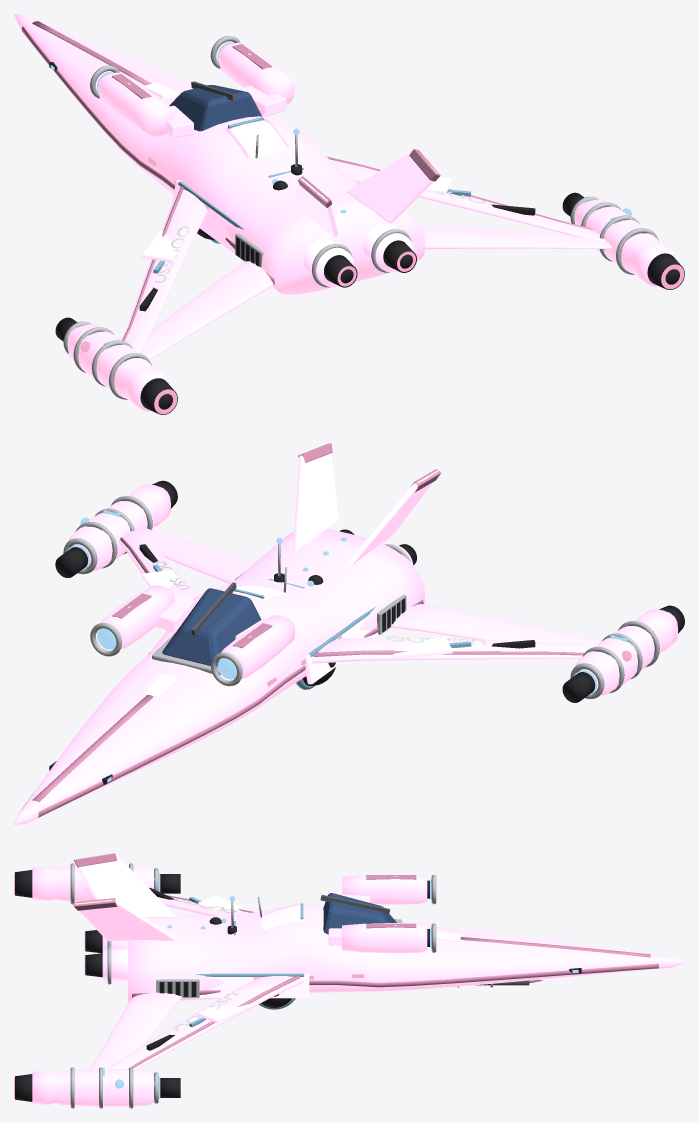
The model's file is uss-boo.glb.
The picture shows the model from 3 angles, top to bottom: view 1: azimuth 30°, elevation 25°; view 2: azimuth 150°, elevation 25°; view 3: azimuth 270°, elevation 25°; orthographic projection. The views are drawn at different scales.
Visible parts, largest first — view 1: Hull, WingRearL, WingFrontL, NacelleL, WingRearR, NacelleR, FinR, PodL, Canopy, WingFrontR, PodR, SpinePanel (+13 smaller); view 2: Hull, Canopy, WingRearL, WingFrontL, NacelleL, NacelleR, FinR, WingRearR, PodL, PodR, ChineL, FinL (+8 smaller); view 3: Hull, NacelleR, WingRearR, WingFrontR, FinL, PodR, FinR, PodL, NacelleL, ChineR, Canopy, FlankPanelR (+14 smaller).
Boxes of the visible parts, x1,y1,x2,y2 form: Hull: (14, 14, 425, 294); WingRearL: (138, 261, 274, 359); WingFrontL: (121, 188, 207, 352); NacelleL: (67, 324, 170, 411); WingRearR: (421, 226, 612, 249); NacelleR: (574, 199, 677, 286); FinR: (346, 151, 437, 223); PodL: (98, 72, 174, 136); Canopy: (169, 85, 261, 131); WingFrontR: (330, 159, 605, 240); PodR: (218, 42, 294, 104); SpinePanel: (224, 118, 288, 157); Hull: (14, 529, 425, 824); Canopy: (162, 588, 261, 666); WingRearL: (390, 604, 601, 644); WingFrontL: (312, 637, 596, 663); NacelleL: (576, 609, 678, 696); NacelleR: (68, 484, 170, 571); FinR: (293, 453, 338, 552); WingRearR: (135, 526, 256, 583); PodL: (219, 615, 295, 679); PodR: (99, 585, 174, 649); ChineL: (38, 600, 423, 817); FinL: (346, 470, 438, 565); Hull: (128, 902, 684, 1003); NacelleR: (32, 1069, 154, 1106); WingRearR: (90, 992, 181, 1069); WingFrontR: (106, 976, 303, 1069); FinL: (78, 854, 176, 918); PodR: (342, 923, 427, 953); FinR: (75, 899, 177, 940); PodL: (342, 874, 427, 904); NacelleL: (32, 865, 154, 901); ChineR: (132, 963, 658, 997); Canopy: (323, 893, 396, 934); FlankPanelR: (189, 973, 309, 998).
Bounding box in the file's own units: 6.3 × 1.71 × 8.02.
